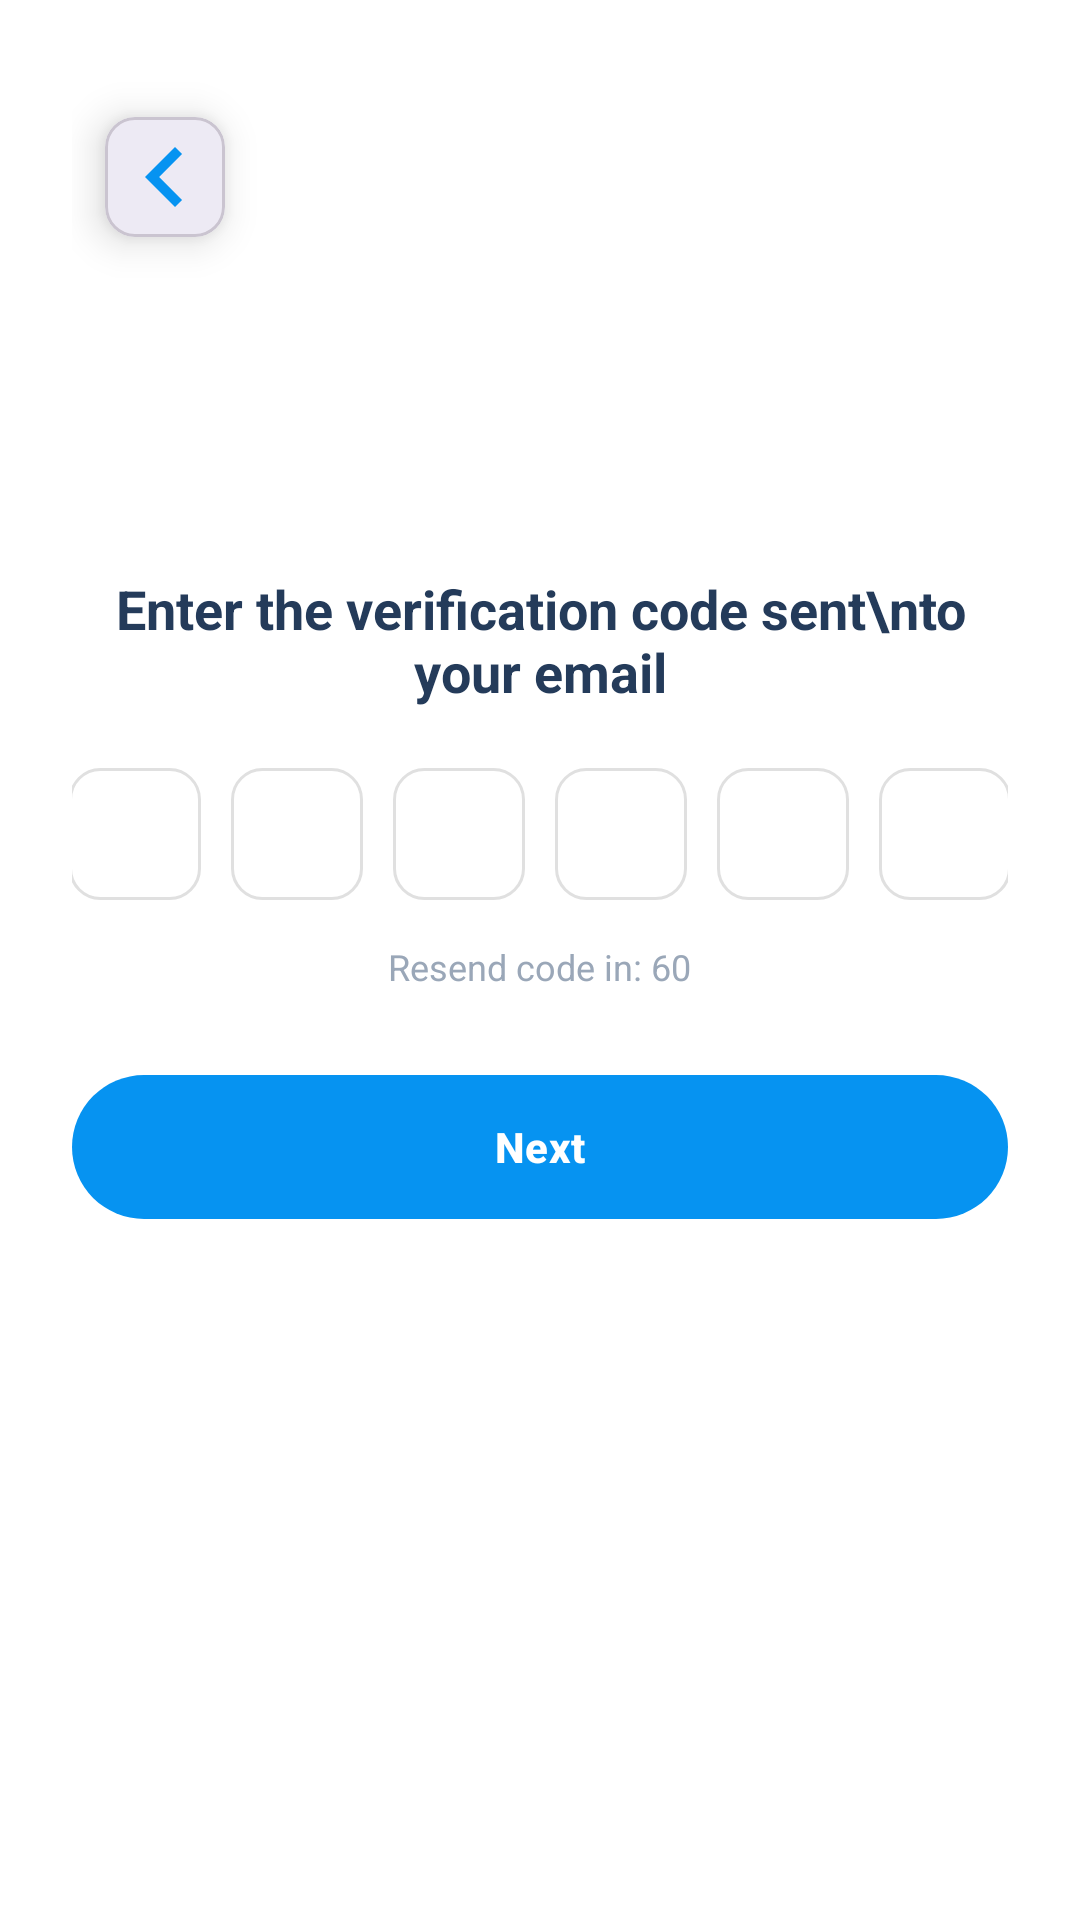

Locate icon controls on the screen. Image size 1080 × 1920, boxes as (x1, y1, x2, y2).
Back: (105, 117, 225, 237)
